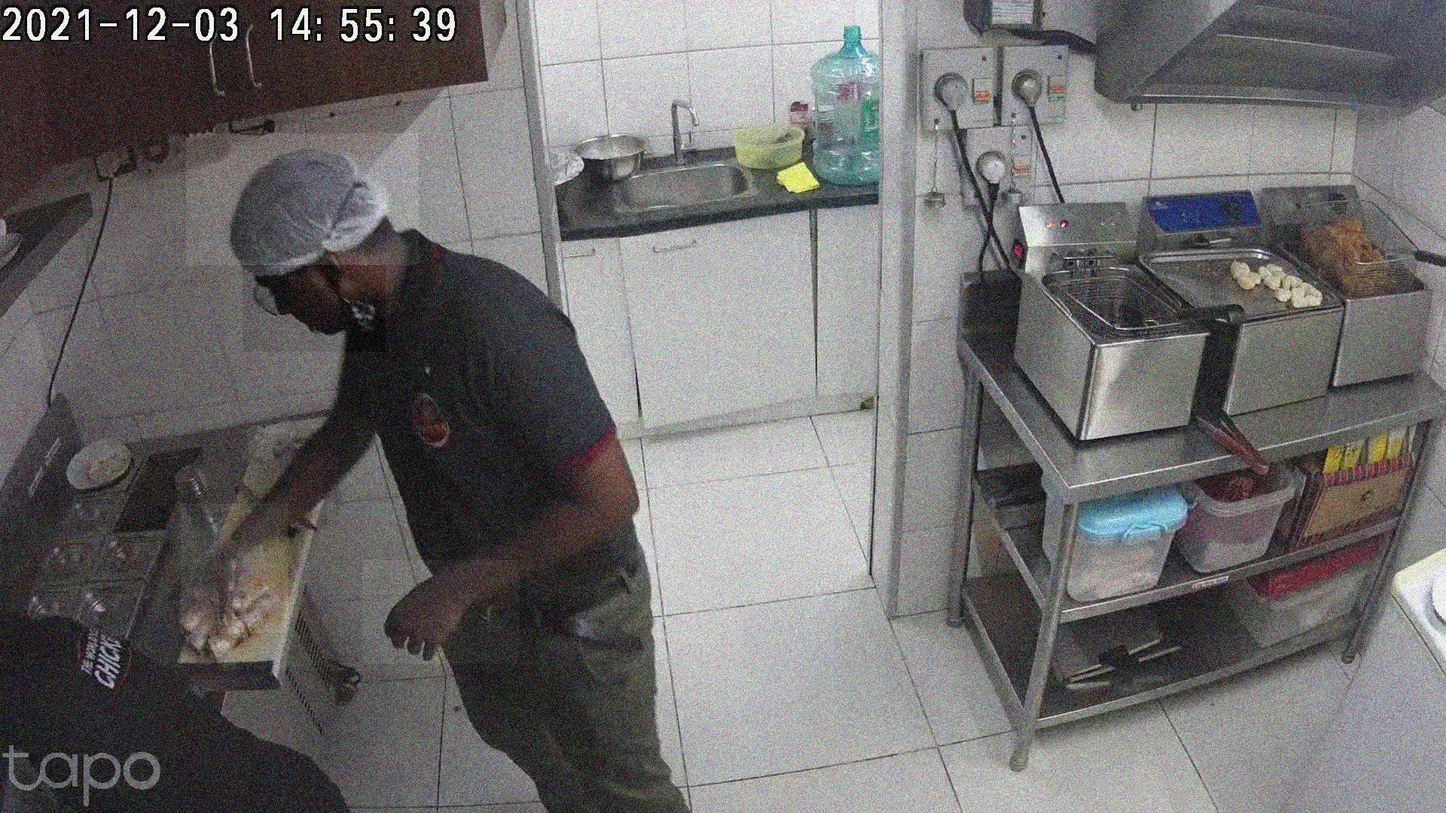apron: (182, 504, 289, 634)
gloves: (187, 134, 419, 265)
no_apron: (363, 560, 520, 664)
no_hairnet: (243, 257, 386, 352)
